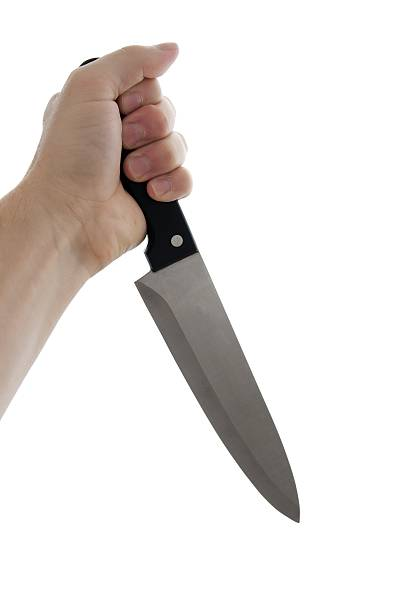knife: (78, 55, 300, 527)
